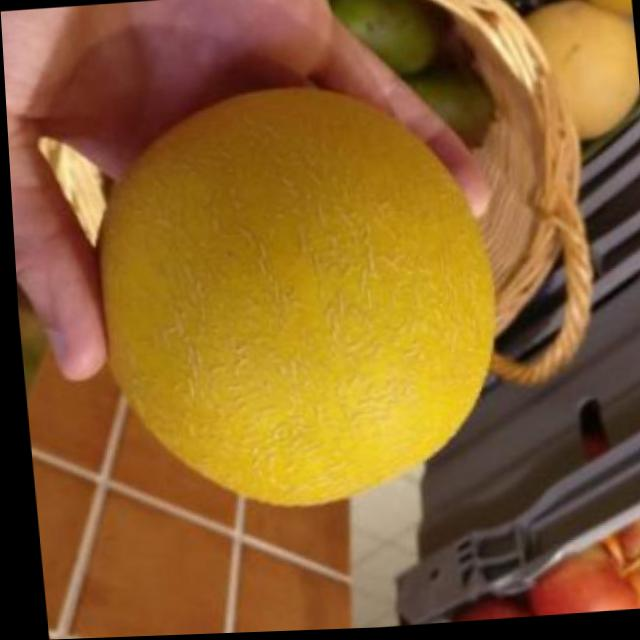Galia: (84, 75, 505, 518)
